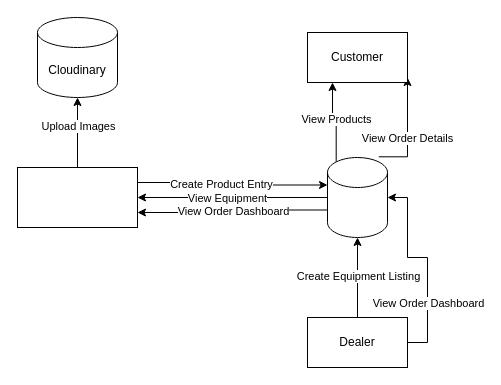
The diagram is 501 pixels wide and 385 high, and some of its shapes have lost their labels. Each missing label, with the centre of its shape:
Farmer: point (77, 197)
MongoDB: point (357, 197)
